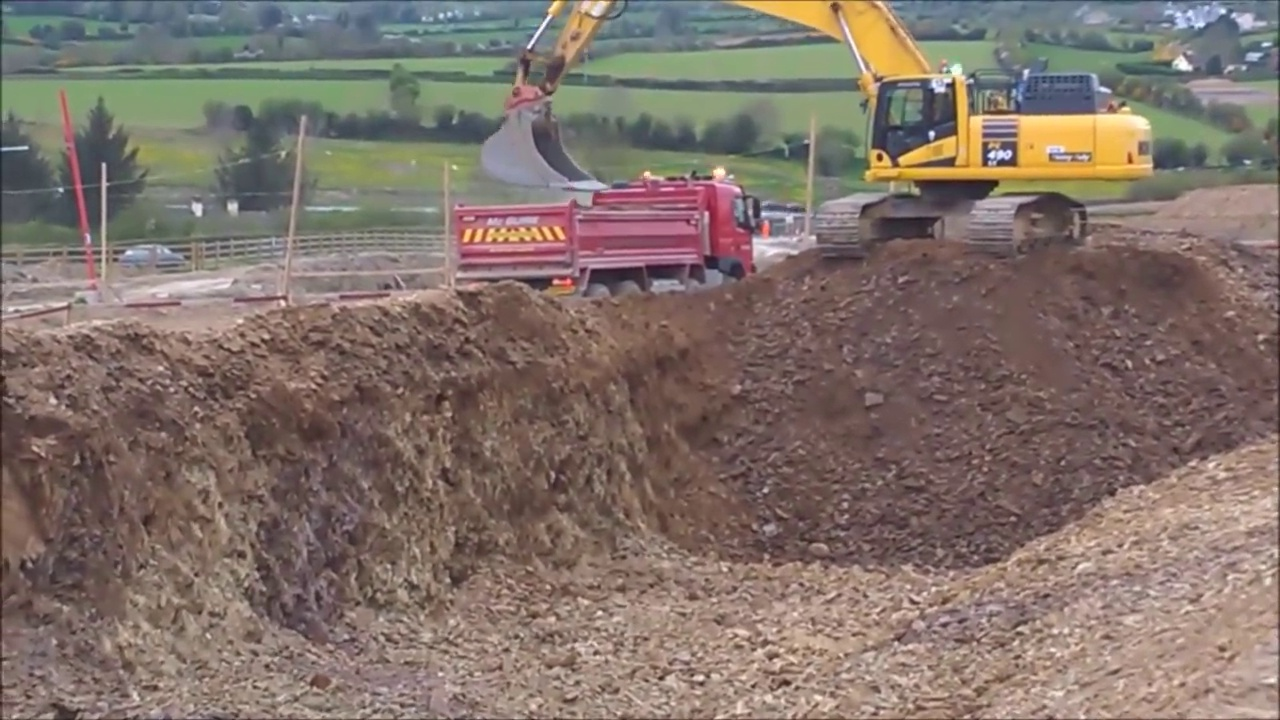excavator: (483, 1, 1155, 256)
truck: (453, 175, 763, 298)
